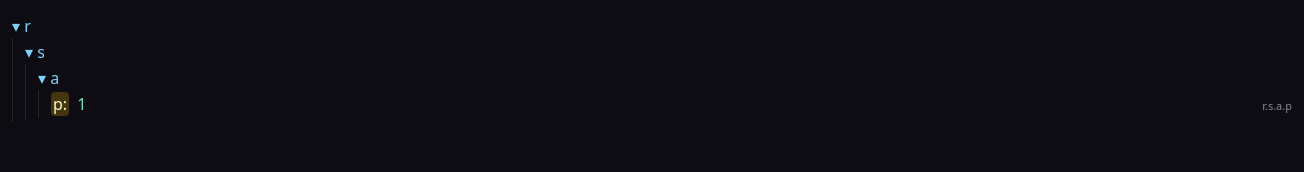
Test: JsonTree › toggling a branch › collapses a branch the search holds open
Expected: the text "p:" is shown, [51,92,69,116]
Click the button "▾ a". click: (49, 78)
box: [38,66,59,90]
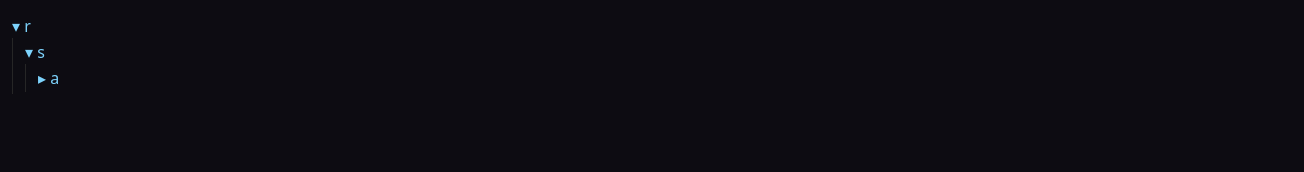
Now the text "p:" is gone
